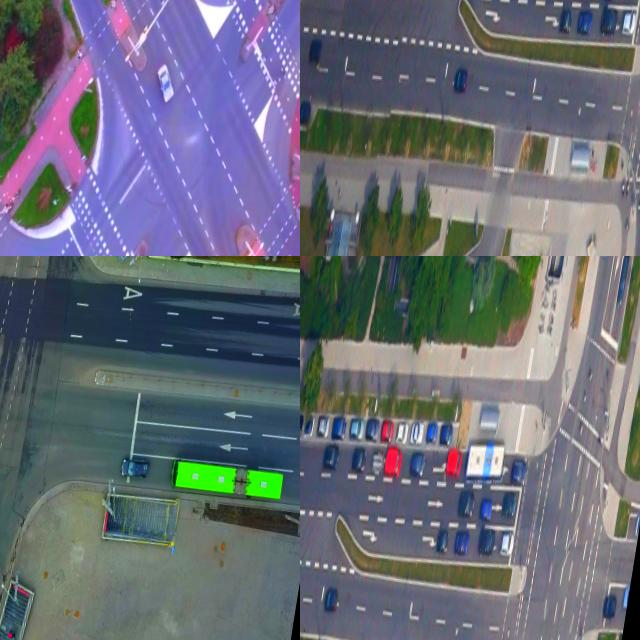UAI: (153, 62, 180, 105), (119, 455, 151, 481), (616, 256, 630, 306), (384, 447, 404, 479), (600, 7, 619, 37), (457, 490, 476, 519), (478, 526, 496, 556), (446, 449, 464, 479), (512, 458, 529, 488), (323, 444, 341, 471), (577, 9, 595, 35), (351, 447, 368, 474), (454, 530, 471, 556), (410, 452, 427, 478), (602, 594, 618, 621), (324, 587, 340, 614), (502, 491, 518, 518), (453, 68, 469, 94), (622, 10, 638, 36), (500, 531, 516, 557), (332, 415, 348, 441), (371, 448, 385, 476), (309, 40, 324, 65), (436, 529, 451, 554), (350, 418, 366, 441), (366, 417, 381, 441), (410, 421, 425, 445), (439, 423, 454, 447), (396, 421, 410, 446), (560, 9, 574, 33), (300, 99, 312, 125), (480, 498, 493, 522), (318, 414, 331, 436), (382, 420, 395, 442), (426, 422, 439, 444), (305, 415, 316, 438), (300, 411, 304, 437)
car: (169, 455, 285, 504), (465, 437, 508, 487)
